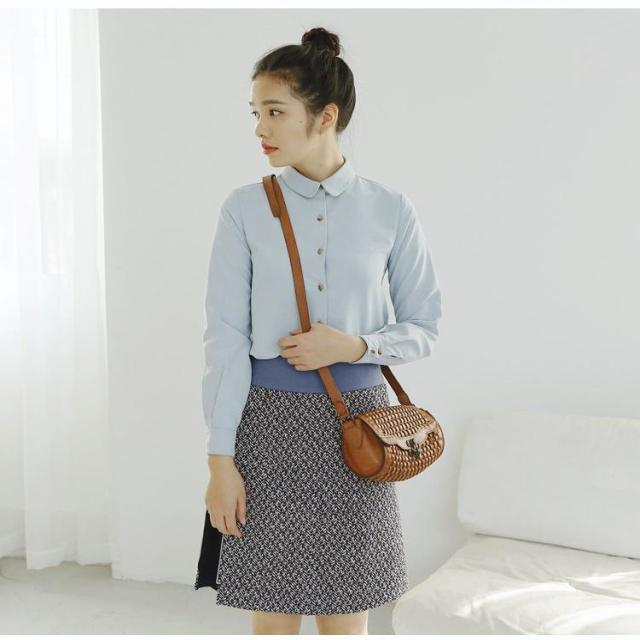long-sleeve-dress: (219, 163, 426, 617)
